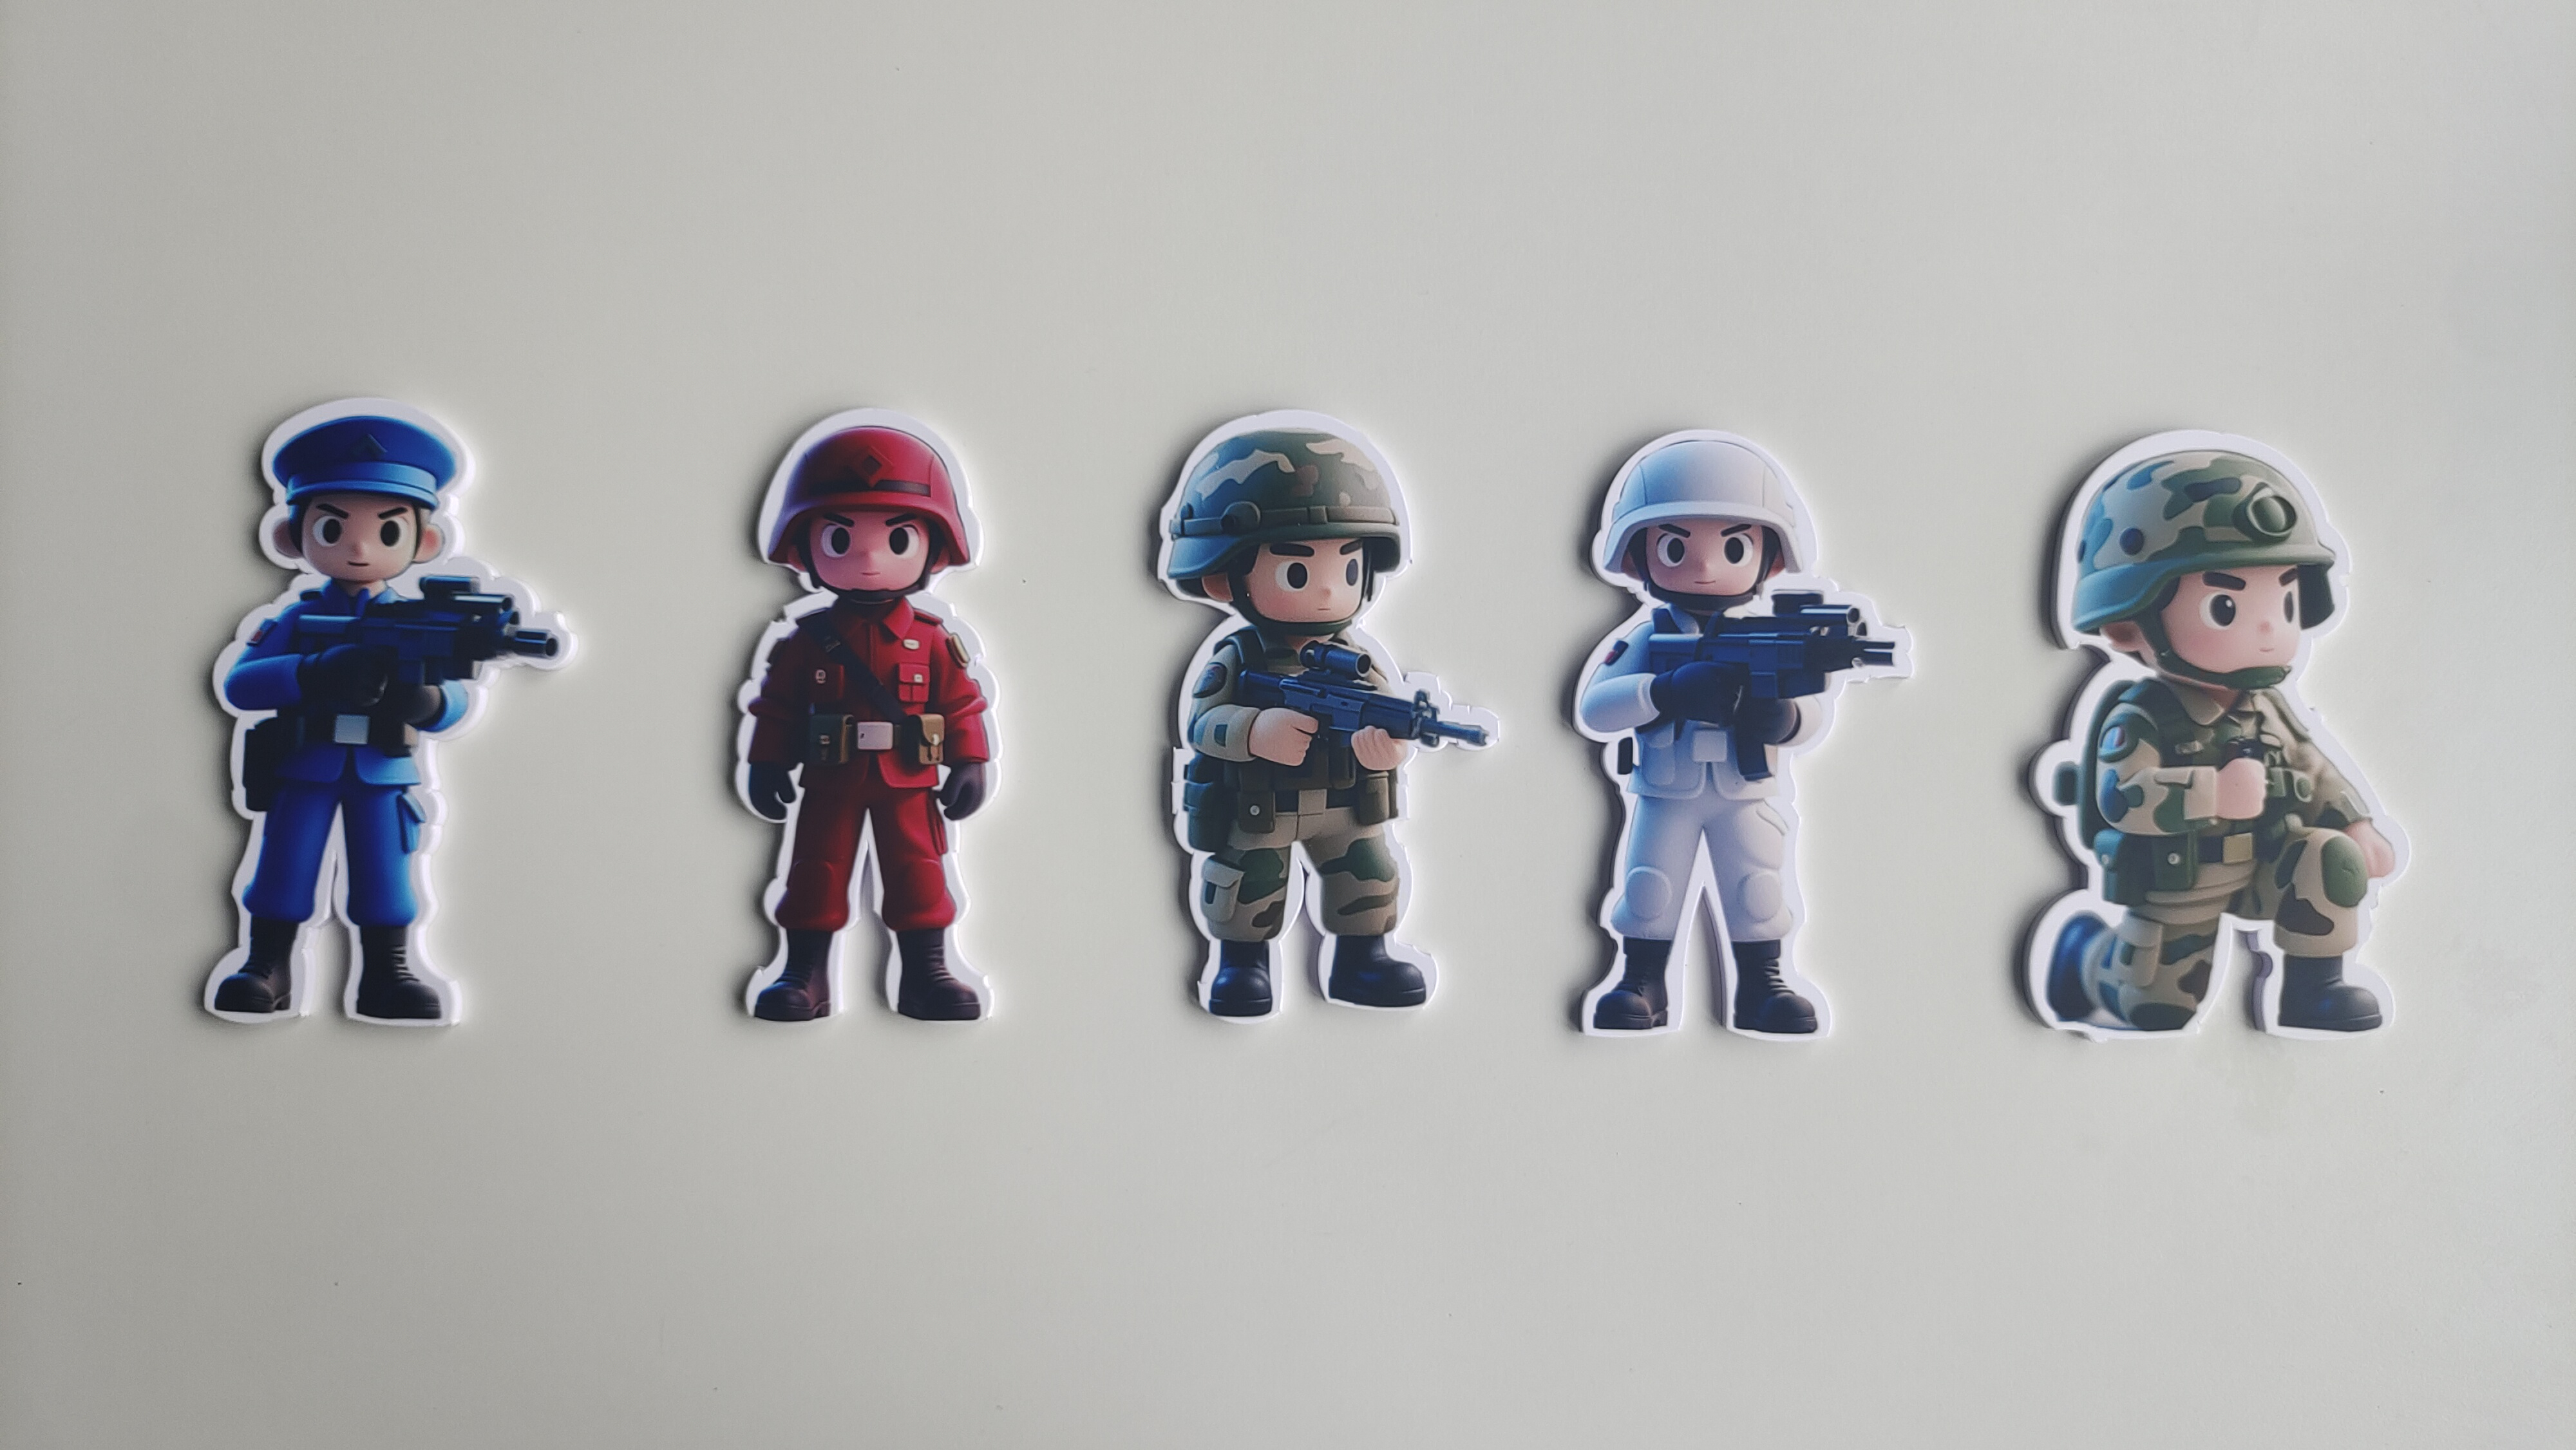enemy1: (709, 598, 1039, 1034)
enemy2: (191, 589, 483, 1038)
friend: (2010, 674, 2408, 1068), (1148, 635, 1449, 1038)
hostage: (1566, 624, 1844, 1050)
